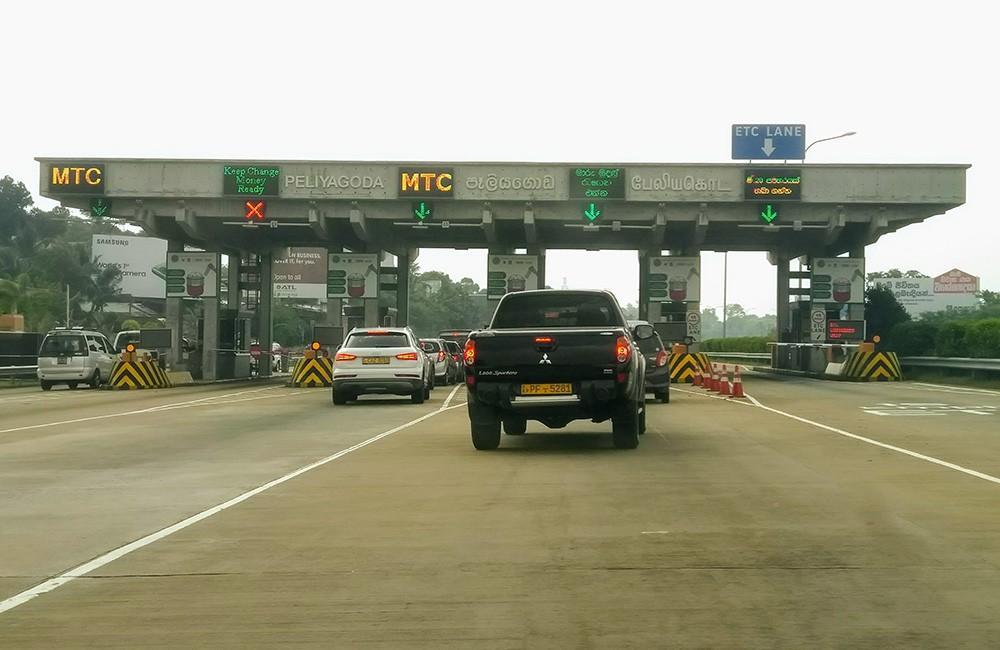license-plate: (518, 379, 573, 393)
